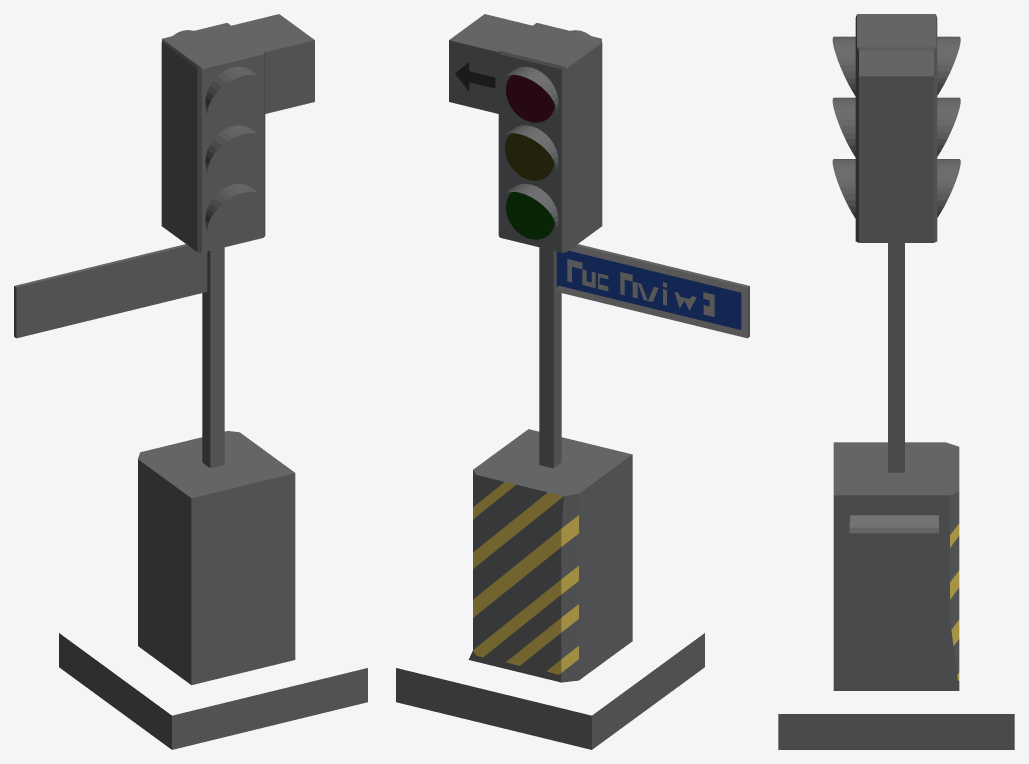
The model's file is signal6.gltf.
3 views of the same model, side by side, from view 1: azimuth 30°, elevation 25°; view 2: azimuth 150°, elevation 25°; view 3: azimuth 270°, elevation 25° (orthographic). The views are drawn at different scales.
Visible parts, largest first — view 1: Circle; view 2: Circle; view 3: Circle.
Part boxes in pixels (left/top/right/bottom): Circle: left=14, top=14, right=367, bottom=749; Circle: left=396, top=14, right=749, bottom=749; Circle: left=778, top=14, right=1014, bottom=749.
Size of the model in its own units: 5.7 by 11.77 by 3.77.
